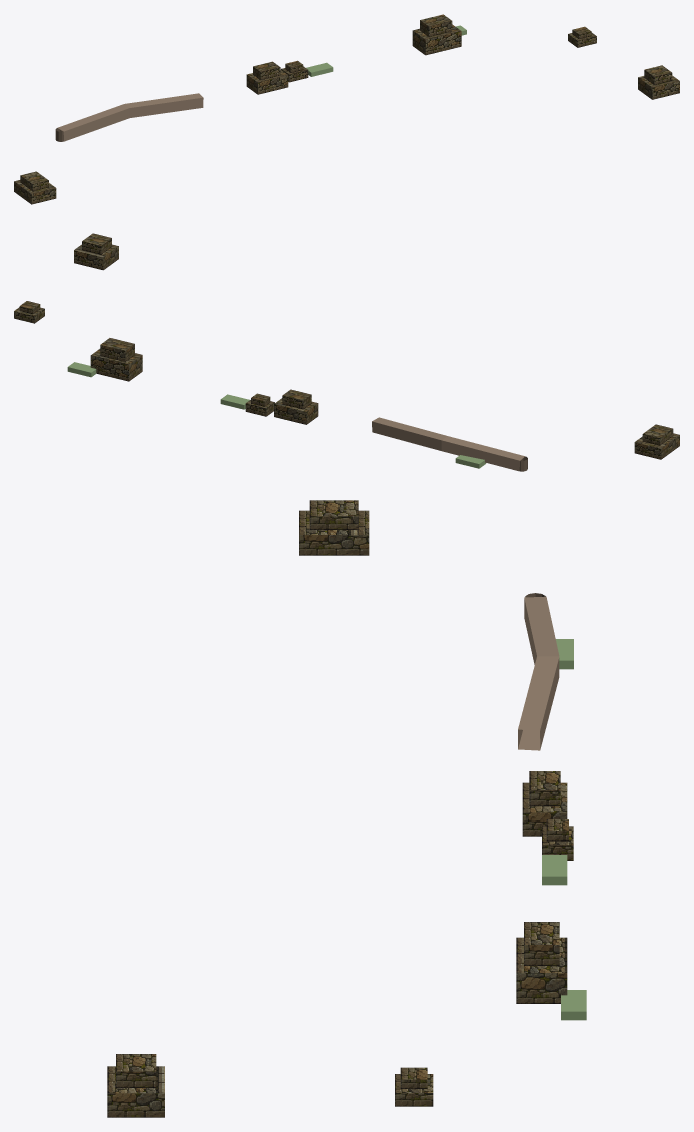
The model's file is st_forest.glb.
3 renders of one model, top to bottom at view 1: azimuth 30°, elevation 25°; view 2: azimuth 150°, elevation 25°; view 3: azimuth 270°, elevation 25°, orthographic. The views are drawn at different scales.
Visible parts, largest first — view 1: rock, bark, moss; view 2: rock, bark, moss; view 3: rock, bark, moss.
Boxes of the visible parts, box(x1,y1,x2,y2) form: rock: box(14, 14, 679, 204); bark: box(57, 93, 203, 141); moss: box(306, 25, 466, 76); rock: box(14, 233, 679, 459); bark: box(372, 417, 524, 471); moss: box(67, 362, 486, 468); rock: box(107, 500, 573, 1117); bark: box(518, 596, 559, 750); moss: box(542, 639, 586, 1020).
Bounding box in the file's own units: 434 × 18.01 × 150.
4 materials, 1 textured.
